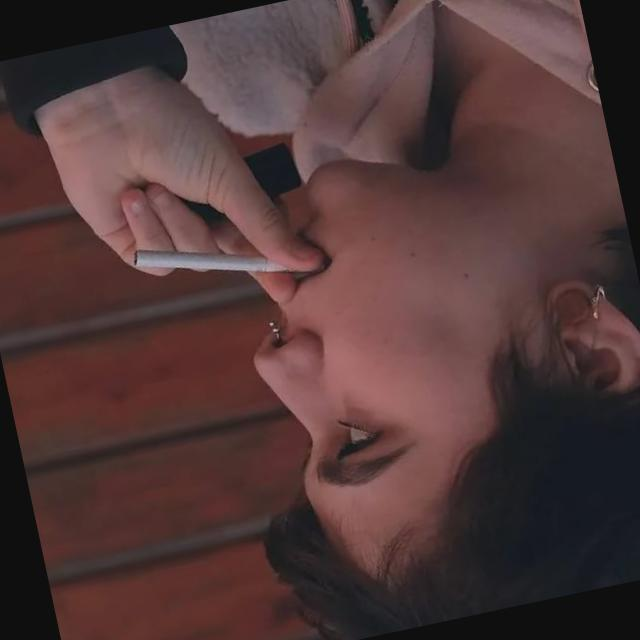smoke: (126, 210, 312, 308)
